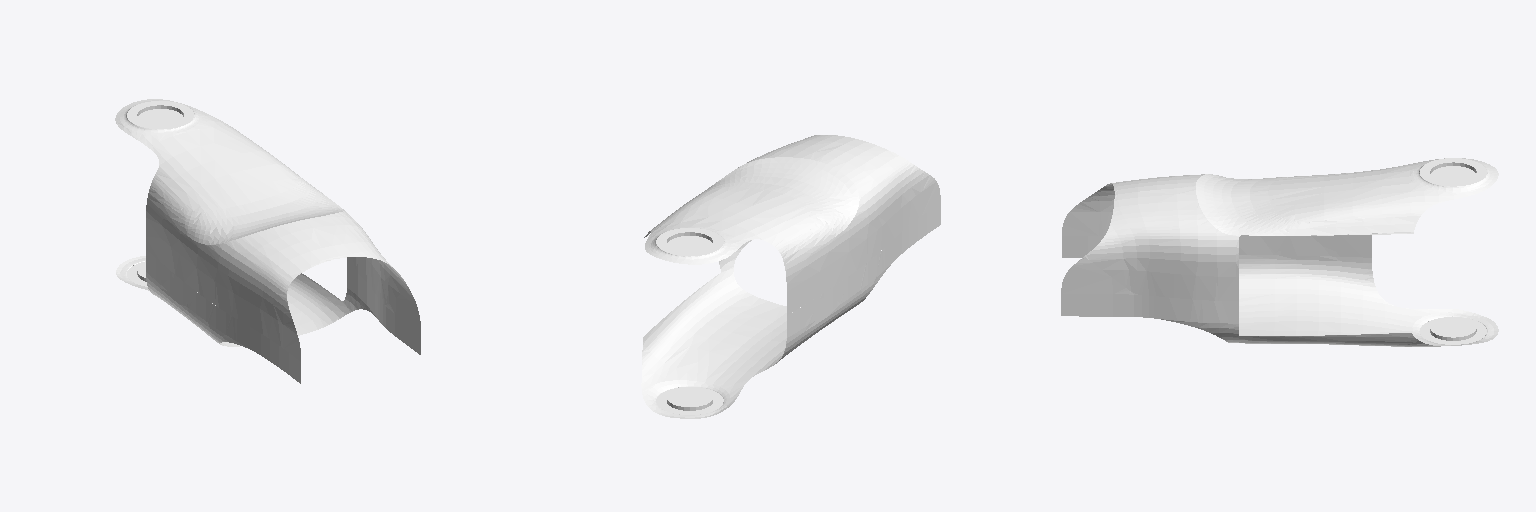
File: OberarmR_B.obj
3 views of the same model, side by side, from view 1: azimuth 30°, elevation 25°; view 2: azimuth 150°, elevation 25°; view 3: azimuth 270°, elevation 25° (orthographic).
Parts seen in each view (by area): view 1: Stamm|Minimal-OberarmR_(Standard)|Oberarm_rechts-1|Oberarm_recht; view 2: Stamm|Minimal-OberarmR_(Standard)|Oberarm_rechts-1|Oberarm_recht; view 3: Stamm|Minimal-OberarmR_(Standard)|Oberarm_rechts-1|Oberarm_recht.
Part boxes in pixels (left/top/right/bottom): Stamm|Minimal-OberarmR_(Standard)|Oberarm_rechts-1|Oberarm_recht: left=115, top=99, right=420, bottom=383; Stamm|Minimal-OberarmR_(Standard)|Oberarm_rechts-1|Oberarm_recht: left=641, top=135, right=940, bottom=418; Stamm|Minimal-OberarmR_(Standard)|Oberarm_rechts-1|Oberarm_recht: left=1061, top=158, right=1498, bottom=346.
Size of the model in its own units: 0.0982 by 0.1059 by 0.2641.